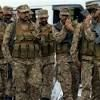uniform: (48, 7, 81, 97), (10, 8, 40, 99), (78, 1, 100, 96), (35, 9, 57, 100)
